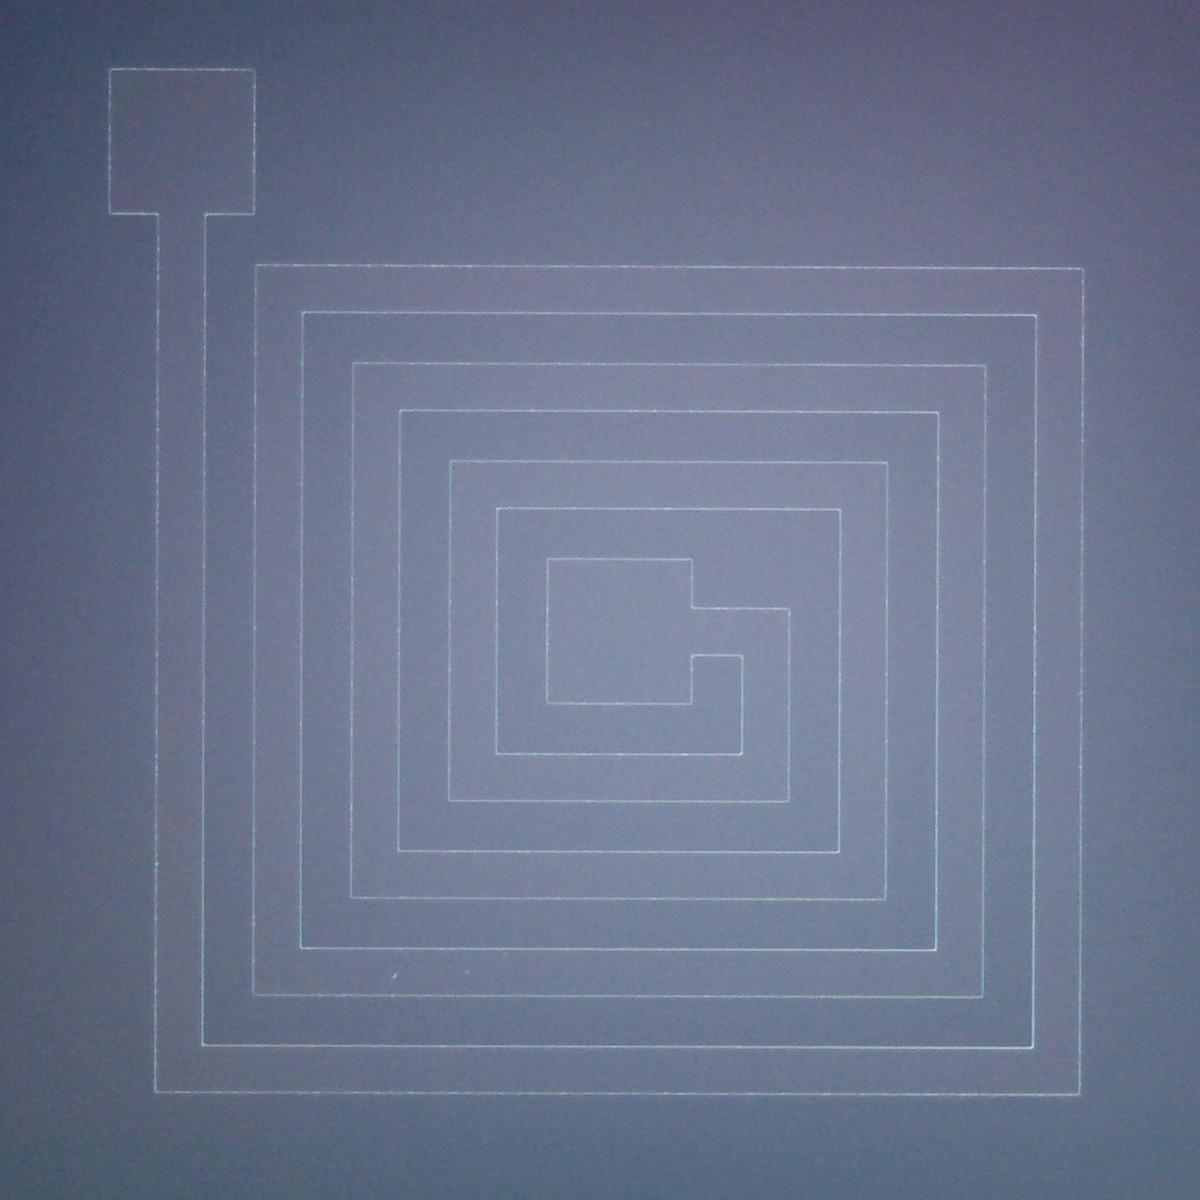s_point: (387, 968, 403, 986), (459, 965, 475, 980)
